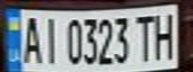0: (60, 14, 81, 65)
2: (96, 15, 115, 65)
3: (112, 12, 133, 65), (78, 15, 100, 65)
A: (18, 12, 45, 65)
H: (148, 8, 181, 61)
I: (39, 14, 60, 65)
T: (133, 11, 157, 62)
